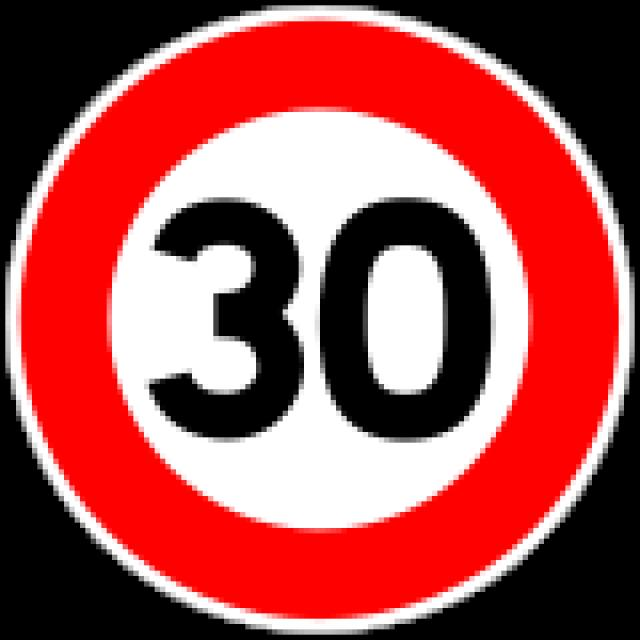Speed Limit -30-: (143, 192, 499, 450)
